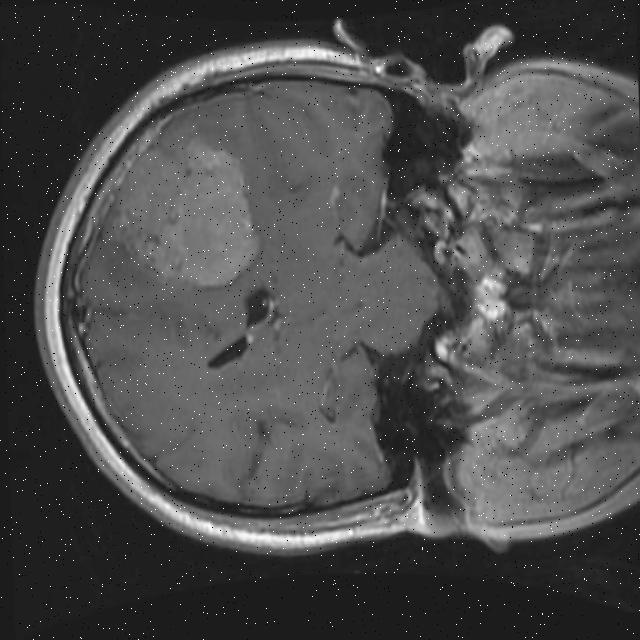Meningioma: (101, 133, 259, 294)
Pituitary: (471, 270, 509, 321)
